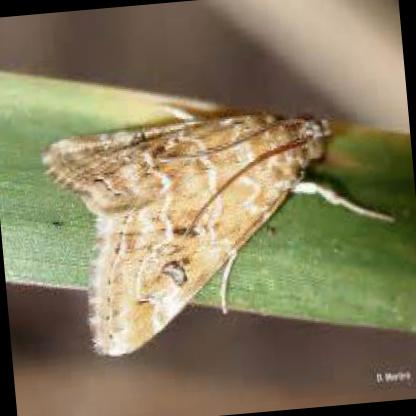Hellula undalis: (34, 100, 401, 370)
